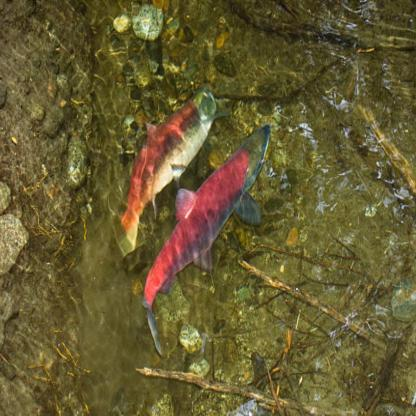sockeye: (148, 125, 272, 316), (109, 77, 214, 242)
